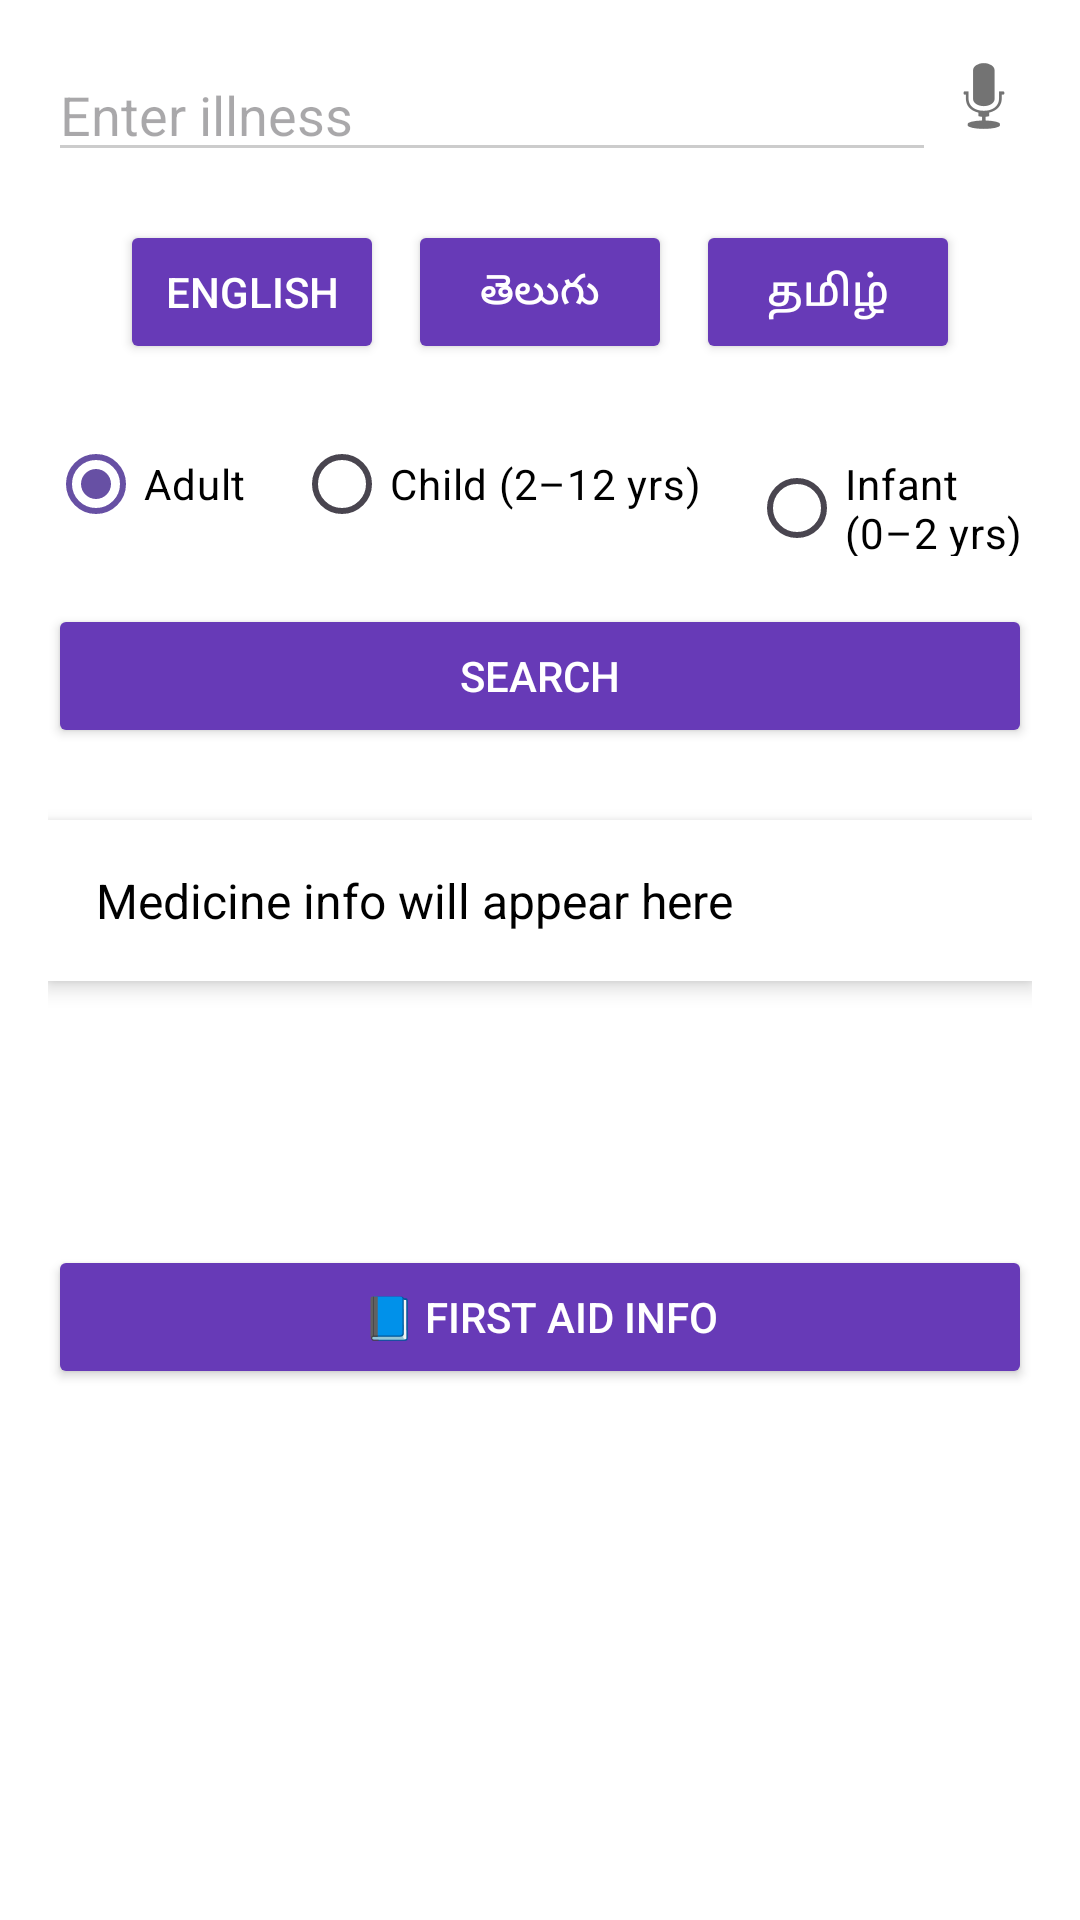

Locate icon controls on the screen. Image size 1080 × 1920, boxes as [x1=x1, y1=y1, x2=x2, y2=y2].
Mic: [x1=963, y1=63, x2=1005, y2=129]
